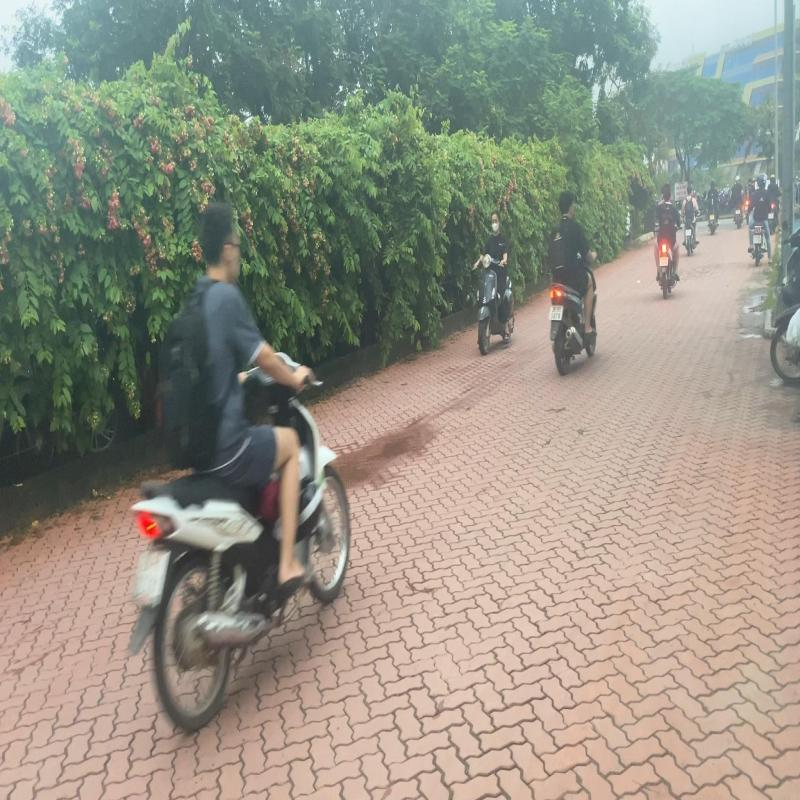licenseplate: (549, 306, 563, 320)
motorcyclist: (123, 199, 353, 732), (546, 188, 602, 376)
nohelmet: (198, 202, 242, 274), (558, 189, 574, 216)
